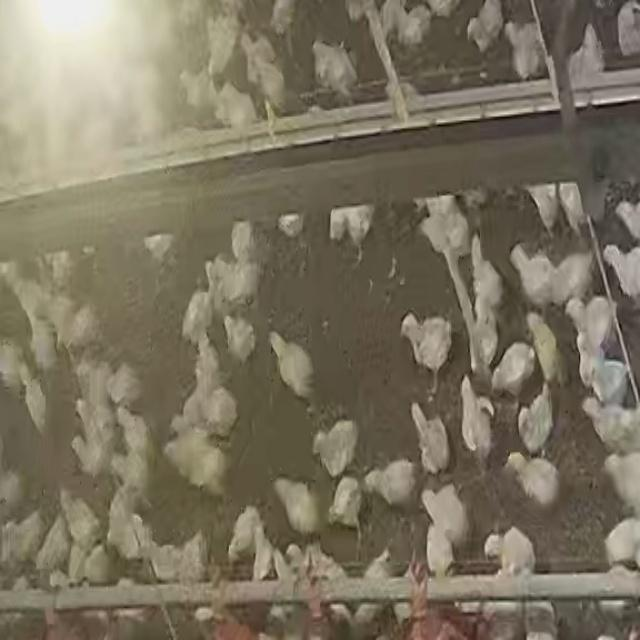chicken: (173, 343, 240, 444), (510, 244, 594, 312), (162, 427, 234, 499), (563, 294, 616, 385), (237, 28, 289, 115), (419, 482, 469, 571), (108, 407, 154, 499), (68, 397, 116, 479), (398, 315, 451, 387), (523, 182, 587, 241), (144, 527, 208, 585), (208, 247, 262, 313), (415, 194, 469, 259), (266, 327, 316, 397), (105, 486, 150, 560), (310, 38, 361, 102), (409, 401, 452, 476), (270, 476, 323, 536), (585, 398, 640, 455), (0, 505, 48, 568), (362, 459, 419, 512), (508, 451, 561, 508), (459, 377, 494, 463), (468, 234, 504, 315), (311, 419, 358, 479), (490, 341, 536, 401), (77, 359, 119, 424), (516, 385, 554, 456), (204, 6, 241, 78), (59, 490, 102, 551), (502, 18, 544, 80), (381, 0, 430, 51), (226, 502, 266, 564), (566, 23, 606, 85), (464, 0, 505, 60), (327, 205, 375, 256), (601, 242, 640, 304), (600, 450, 640, 510), (177, 64, 217, 120), (214, 79, 257, 131), (36, 512, 72, 574), (180, 285, 215, 347), (326, 473, 364, 529), (469, 309, 500, 377), (603, 516, 640, 570), (498, 524, 537, 575), (105, 360, 144, 408), (27, 318, 59, 376), (63, 303, 100, 353), (223, 313, 257, 366), (250, 520, 280, 579), (22, 378, 50, 441), (80, 541, 118, 586), (0, 340, 30, 391), (194, 335, 222, 389), (44, 250, 79, 290), (0, 468, 28, 513), (614, 199, 640, 244), (142, 233, 177, 265), (230, 220, 256, 262), (363, 546, 395, 580), (276, 212, 305, 240)
